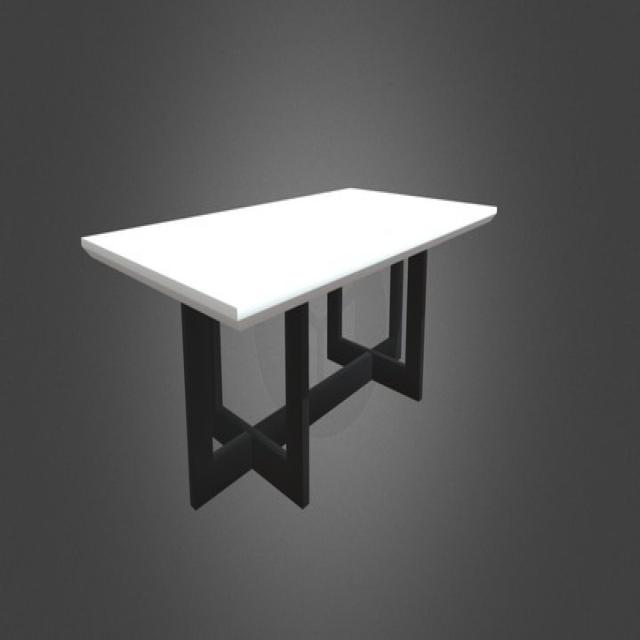table: (82, 184, 496, 514)
